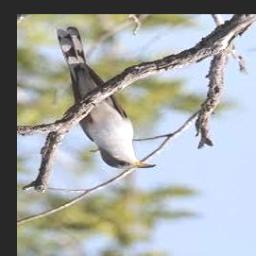Cuckoo: (57, 26, 156, 169)
